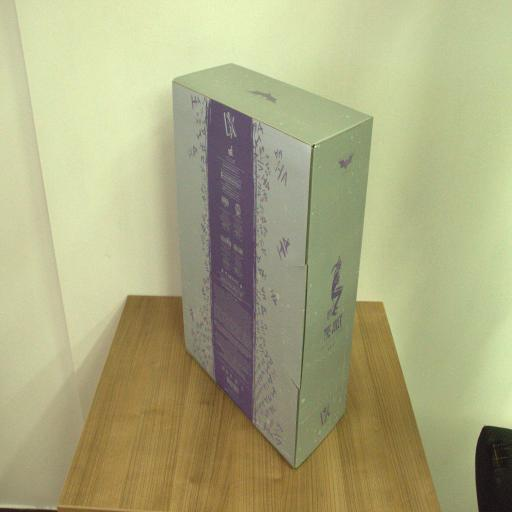Joker: (170, 58, 376, 477)
